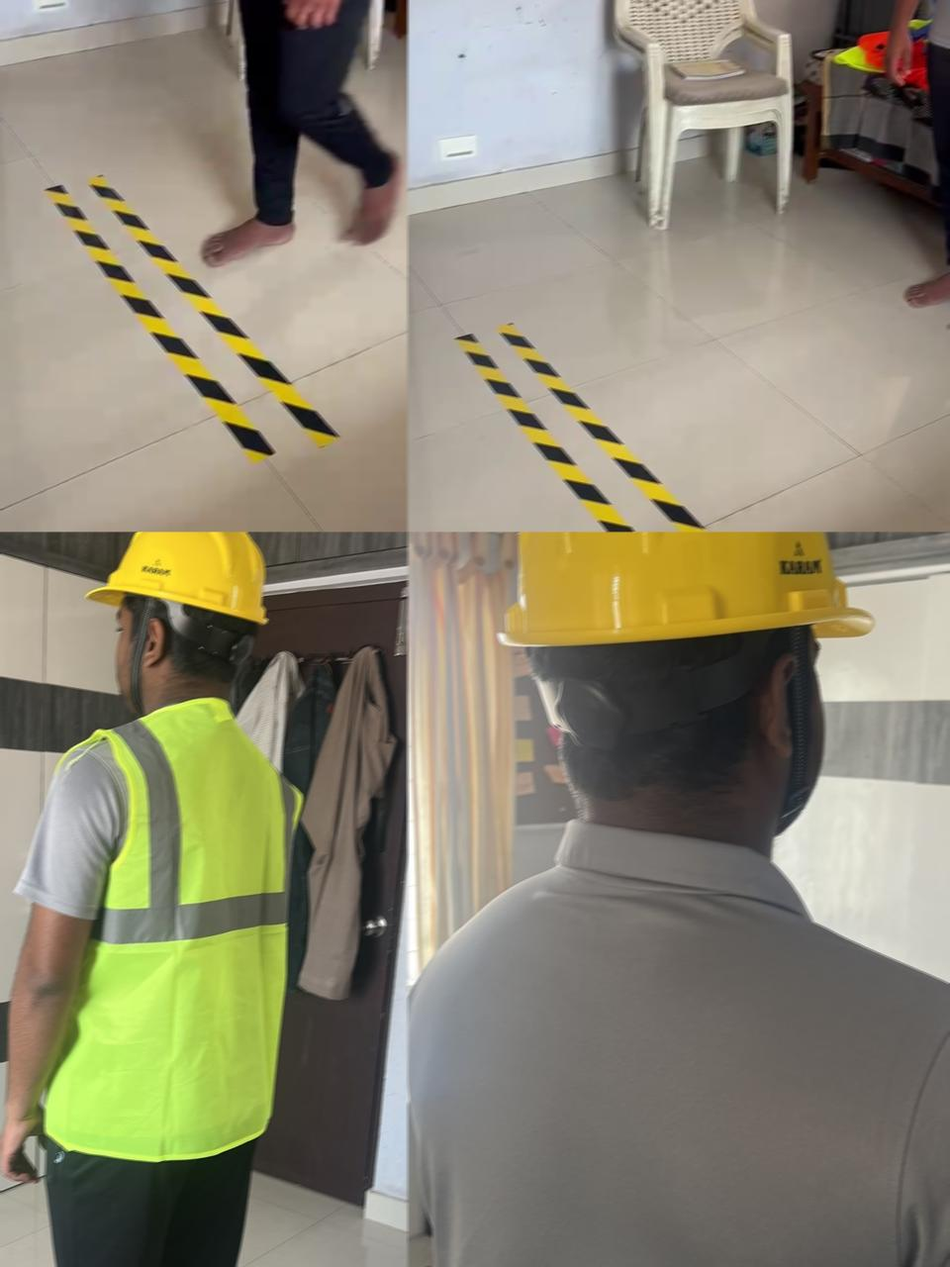BorderLine: (44, 171, 344, 462), (455, 322, 756, 532)
Helmet: (498, 532, 877, 647), (86, 532, 271, 625)
No_Vest: (407, 820, 950, 1267)
Person: (407, 532, 950, 1267), (0, 532, 306, 1267), (187, 0, 408, 269), (882, 0, 950, 341)
Vest: (38, 695, 305, 1163)
